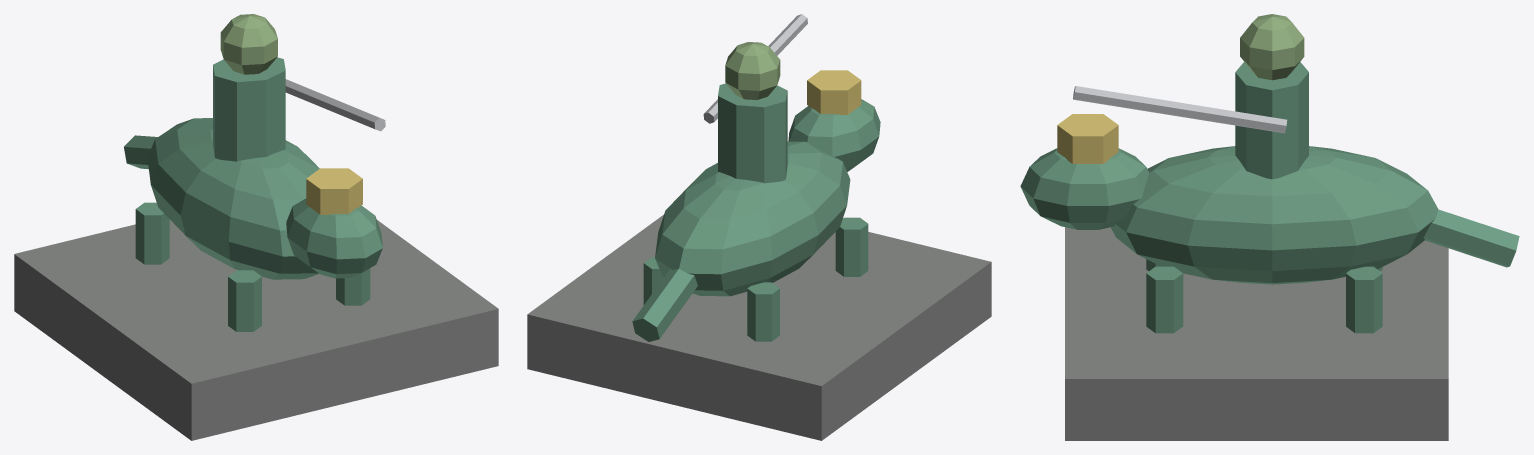
The model's file is orc_lizard_king.glb.
The picture shows the model from 3 angles, left to right: view 1: azimuth 30°, elevation 25°; view 2: azimuth 150°, elevation 25°; view 3: azimuth 270°, elevation 25°; orthographic projection. The views are drawn at different scales.
Visible parts, largest first — view 1: Base, TurretMesh, Spear; view 2: Base, TurretMesh, Spear; view 3: Base, TurretMesh, Spear.
Boxes of the visible parts, x1,y1,x2,y2 form: Base: (14,219,498,440); TurretMesh: (124,14,382,331); Spear: (285,79,385,131); Base: (527,214,991,440); TurretMesh: (632,42,880,341); Spear: (703,14,807,123); Base: (1065,227,1448,440); TurretMesh: (1020,14,1519,333); Spear: (1073,86,1287,133).
Size of the model in its own units: 1.8 by 1.78 by 2.34.
